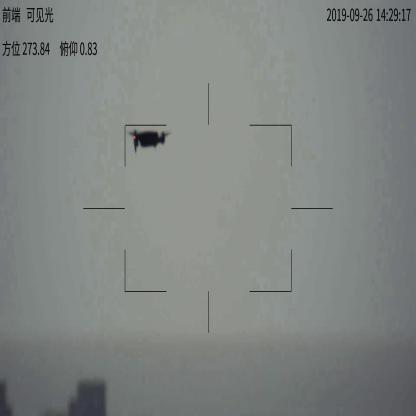uav: (122, 128, 173, 152)
